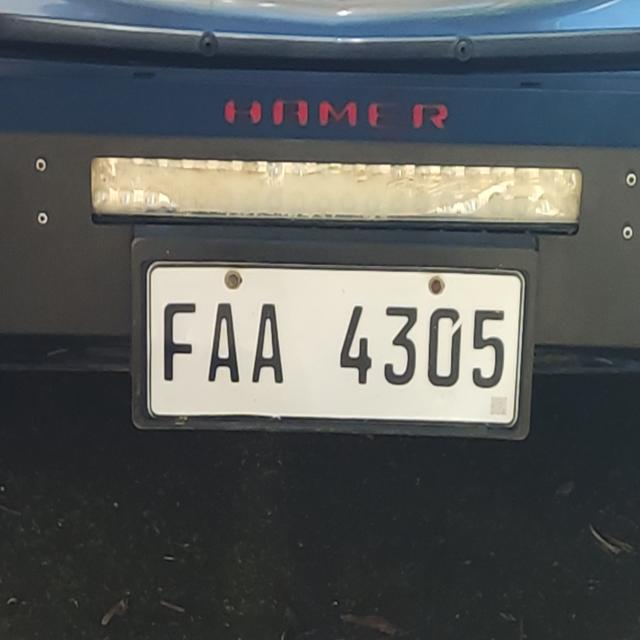plate: (132, 238, 533, 439)
